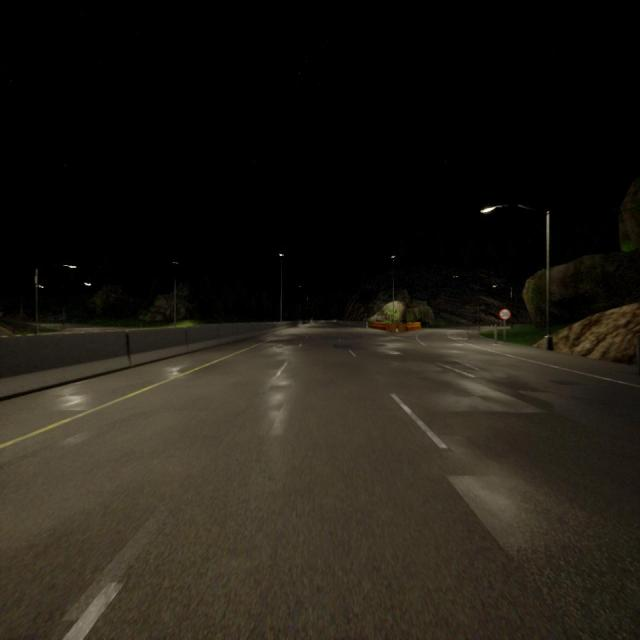Traffic_Signs: (499, 308, 511, 320)
